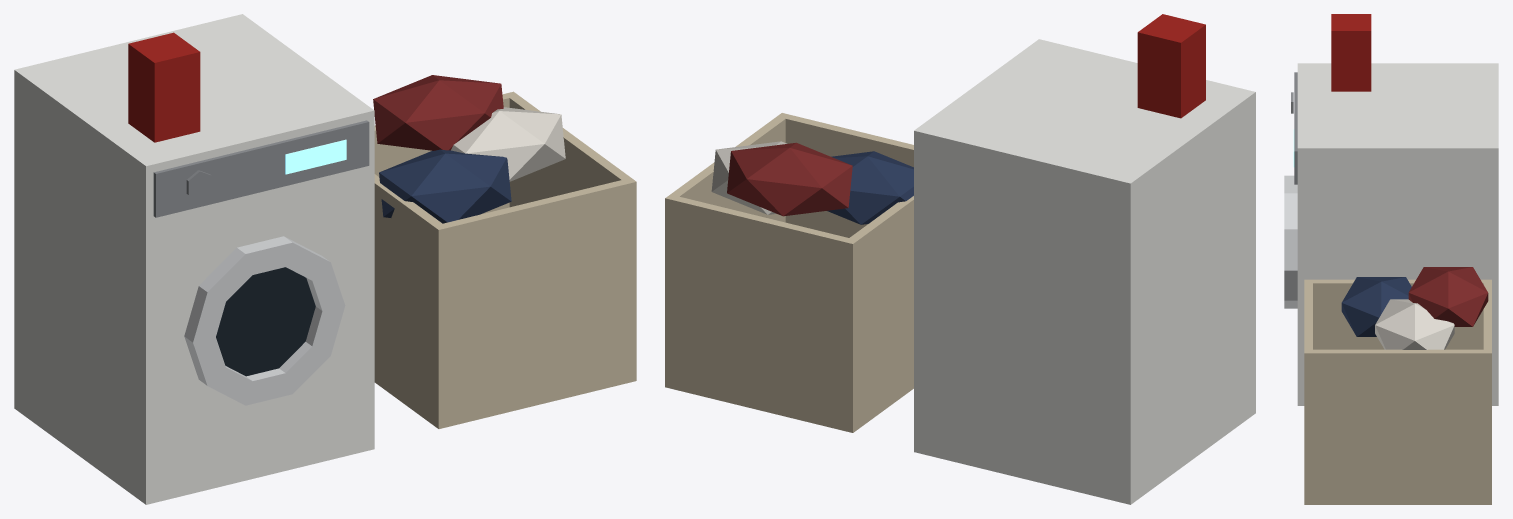
File: washing_machine.glb
The picture shows the model from 3 angles, left to right: view 1: azimuth 30°, elevation 25°; view 2: azimuth 150°, elevation 25°; view 3: azimuth 270°, elevation 25°; orthographic projection. The views are drawn at different scales.
Parts seen in each view (by area): view 1: washing_machine; view 2: washing_machine; view 3: washing_machine.
Part boxes in pixels (left/top/right/bottom): washing_machine: left=14, top=14, right=636, bottom=504; washing_machine: left=665, top=14, right=1255, bottom=504; washing_machine: left=1284, top=14, right=1498, bottom=504.
Bounding box in the file's own units: 1.3 × 1.05 × 0.64.
Materials: 1 (1 with a texture image).
